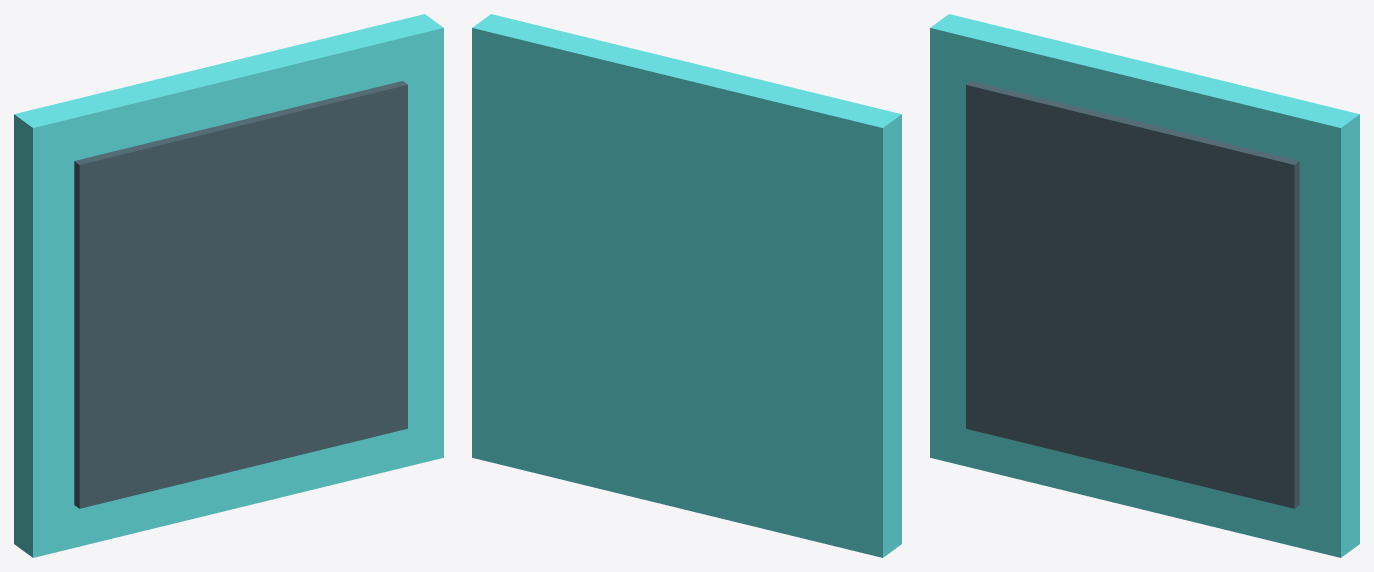
File: vent-register.glb
3 views of the same model, side by side, from view 1: azimuth 30°, elevation 25°; view 2: azimuth 150°, elevation 25°; view 3: azimuth 330°, elevation 25° (orthographic).
Visible parts, largest first — view 1: world; view 2: world; view 3: world.
Boxes of the visible parts, box(x1,y1,x2,y2) form: world: box(14, 14, 443, 557); world: box(472, 14, 901, 557); world: box(930, 14, 1359, 557).
Size of the model in its own units: 1 by 1 by 0.1025.
